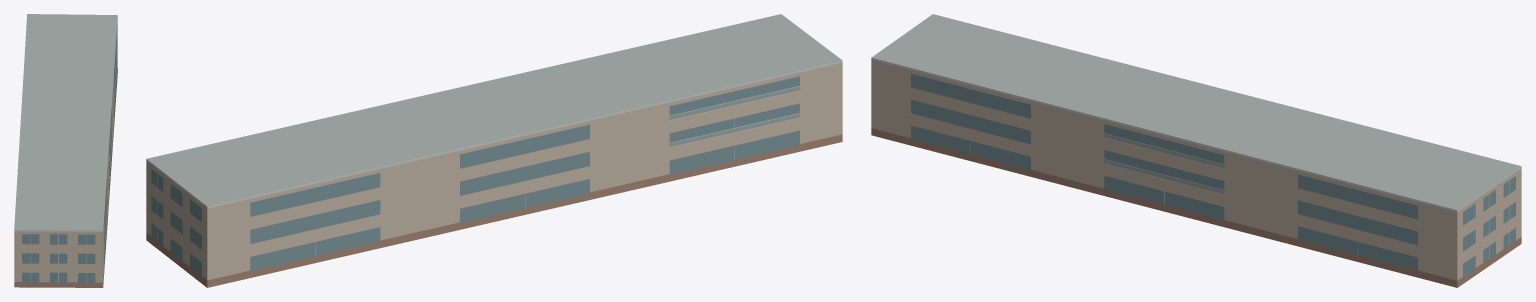
File: survey-upis-32881294.glb
3 views of the same model, side by side, from view 1: azimuth 30°, elevation 25°; view 2: azimuth 150°, elevation 25°; view 3: azimuth 270°, elevation 25° (orthographic). The views are drawn at different scales.
Visible parts, largest first — view 1: survey-upis-32881294.tmp; view 2: survey-upis-32881294.tmp; view 3: survey-upis-32881294.tmp.
Boxes of the visible parts, x1,y1,x2,y2 form: survey-upis-32881294.tmp: (14,14,117,287); survey-upis-32881294.tmp: (146,14,842,287); survey-upis-32881294.tmp: (871,14,1521,287).
Bounding box in the file's own units: 49.6 × 9.15 × 69.44.
